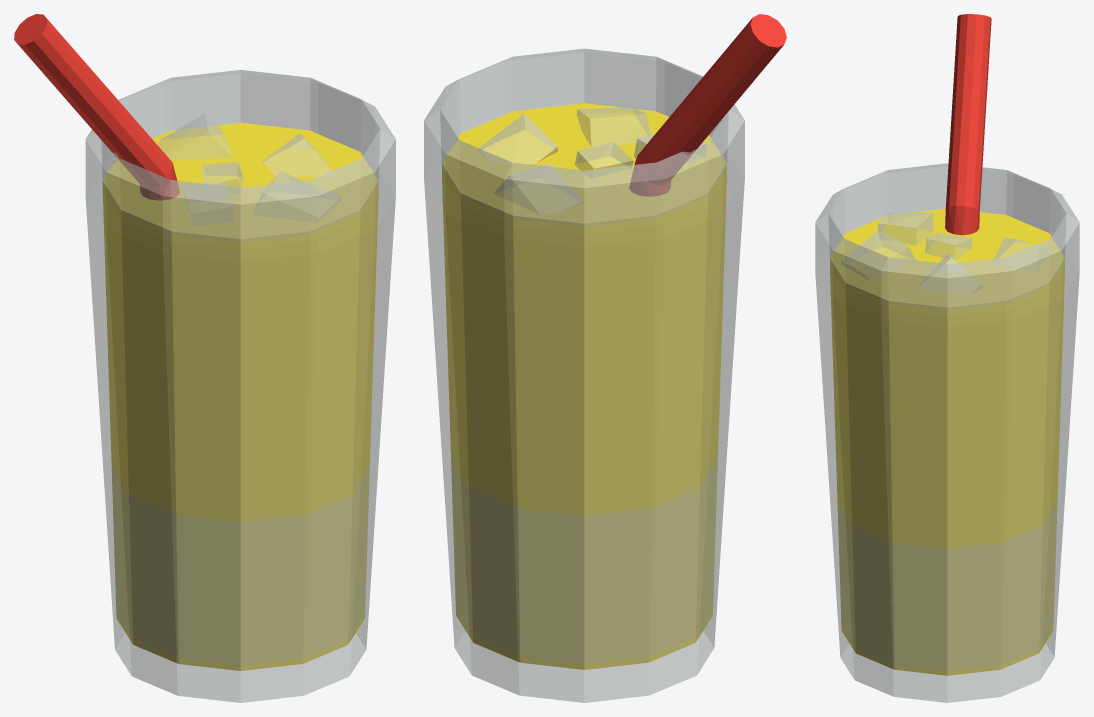
Rendered from model-triangulated.obj.
The picture shows the model from 3 angles, left to right: view 1: azimuth 30°, elevation 25°; view 2: azimuth 150°, elevation 25°; view 3: azimuth 270°, elevation 25°; orthographic projection. The views are drawn at different scales.
Visible parts, largest first — view 1: group267287153, group1707821788, group1845637014, group1047002413, group1992233717, group1826181495, group1681323602, group1394320938; view 2: group267287153, group1707821788, group1845637014, group1826181495, group1992233717, group1681323602, group1047002413; view 3: group267287153, group1707821788, group1845637014, group1394320938, group1826181495, group1681323602, group1047002413, group1992233717.
Boxes of the visible parts, bbox=[...] form: group267287153: bbox=[85, 70, 395, 702]; group1707821788: bbox=[102, 122, 378, 670]; group1845637014: bbox=[14, 14, 179, 200]; group1047002413: bbox=[158, 114, 232, 160]; group1992233717: bbox=[262, 133, 332, 176]; group1826181495: bbox=[253, 171, 340, 213]; group1681323602: bbox=[202, 161, 242, 187]; group1394320938: bbox=[182, 183, 233, 218]; group267287153: bbox=[424, 48, 744, 702]; group1707821788: bbox=[442, 103, 726, 669]; group1845637014: bbox=[629, 14, 786, 196]; group1826181495: bbox=[576, 107, 650, 146]; group1992233717: bbox=[479, 114, 557, 163]; group1681323602: bbox=[575, 142, 633, 170]; group1047002413: bbox=[494, 163, 582, 202]; group267287153: bbox=[815, 163, 1079, 702]; group1707821788: bbox=[830, 208, 1064, 675]; group1845637014: bbox=[945, 14, 991, 235]; group1394320938: bbox=[877, 212, 933, 245]; group1826181495: bbox=[841, 231, 916, 263]; group1681323602: bbox=[925, 233, 972, 259]; group1047002413: bbox=[992, 237, 1036, 264]; group1992233717: bbox=[915, 254, 971, 289].
Size of the model in its own units: 0.6882 by 1.28 by 0.54.
